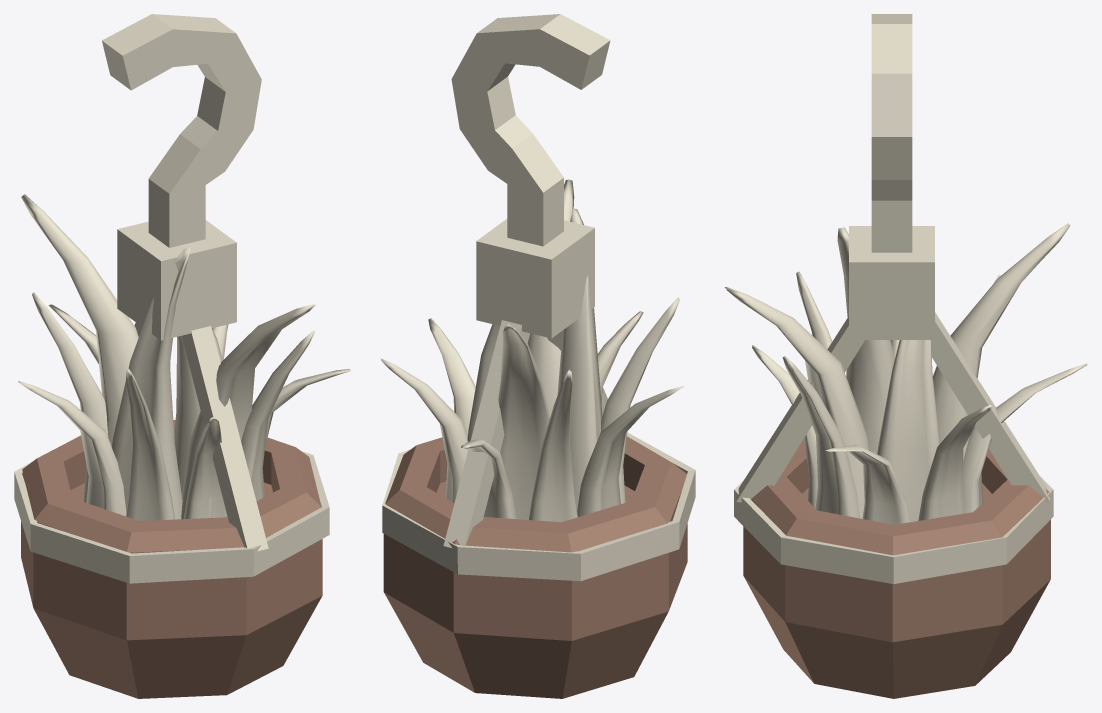
File: pottedPlant_hangingWhite 1.fbx
3 renders of one model, left to right at view 1: azimuth 30°, elevation 25°; view 2: azimuth 150°, elevation 25°; view 3: azimuth 270°, elevation 25°, orthographic. The views are drawn at different scales.
Visible parts, largest first — view 1: Cube.032; view 2: Cube.032; view 3: Cube.032.
Boxes of the visible parts, x1,y1,x2,y2 form: Cube.032: (14, 14, 351, 698); Cube.032: (381, 14, 695, 698); Cube.032: (725, 14, 1087, 698).
Bounding box in the file's own units: 193 × 398 × 211.
